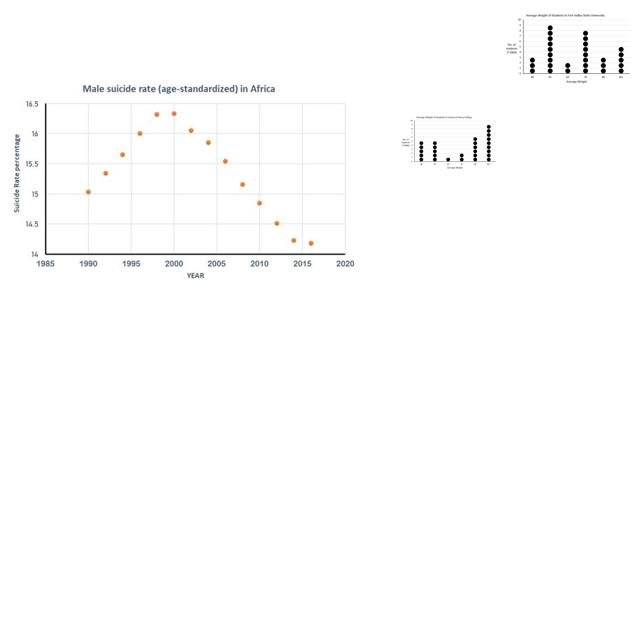Graph: (10, 78, 359, 282), (503, 11, 632, 86), (399, 114, 497, 171)
